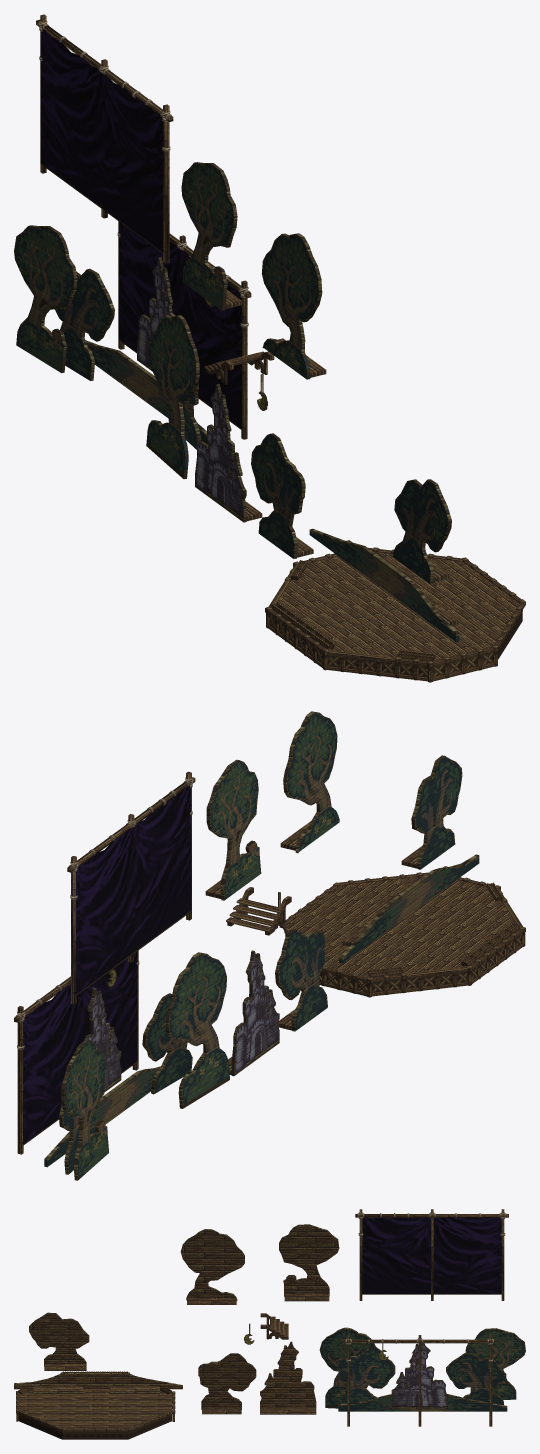
Rendered from EnvObjMD_Stage_A_StageSet.FBX.
The picture shows the model from 3 angles, top to bottom: view 1: azimuth 30°, elevation 25°; view 2: azimuth 150°, elevation 25°; view 3: azimuth 270°, elevation 25°; orthographic projection. The views are drawn at different scales.
Visible parts, largest first — view 1: EnvObjMD_Stage_A_StageSet, EnvObjMD_Stage_A_WoodenStage, EnvObjMD_Stage_A_StageSet_Screen, EnvObjMD_Stage_A_StageSet_Tree_D, EnvObjMD_Stage_A_StageSet_Tree_A, EnvObjMD_Stage_A_StageSet_Tree_C, EnvObjMD_Stage_A_StageSet_Tree_B, EnvObjMD_Stage_A_StageSet_Castle, EnvObjMD_Stage_A_StageSet_Hill, EnvObjMD_Stage_A_WoodenStairs; view 2: EnvObjMD_Stage_A_StageSet, EnvObjMD_Stage_A_WoodenStage, EnvObjMD_Stage_A_StageSet_Screen, EnvObjMD_Stage_A_StageSet_Tree_D, EnvObjMD_Stage_A_StageSet_Tree_A, EnvObjMD_Stage_A_StageSet_Tree_C, EnvObjMD_Stage_A_StageSet_Tree_B, EnvObjMD_Stage_A_StageSet_Castle, EnvObjMD_Stage_A_StageSet_Hill, EnvObjMD_Stage_A_WoodenStairs; view 3: EnvObjMD_Stage_A_StageSet, EnvObjMD_Stage_A_StageSet_Screen, EnvObjMD_Stage_A_WoodenStage, EnvObjMD_Stage_A_StageSet_Tree_A, EnvObjMD_Stage_A_StageSet_Tree_D, EnvObjMD_Stage_A_StageSet_Castle, EnvObjMD_Stage_A_StageSet_Hill, EnvObjMD_Stage_A_StageSet_Tree_C, EnvObjMD_Stage_A_StageSet_Tree_B, EnvObjMD_Stage_A_WoodenStairs.
Boxes of the visible parts, box(x1,y1,x2,y2) form: EnvObjMD_Stage_A_StageSet: box(14, 221, 251, 479); EnvObjMD_Stage_A_WoodenStage: box(265, 547, 525, 682); EnvObjMD_Stage_A_StageSet_Screen: box(36, 14, 173, 263); EnvObjMD_Stage_A_StageSet_Tree_D: box(261, 233, 326, 379); EnvObjMD_Stage_A_StageSet_Tree_A: box(181, 162, 241, 310); EnvObjMD_Stage_A_StageSet_Tree_C: box(251, 433, 313, 558); EnvObjMD_Stage_A_StageSet_Tree_B: box(393, 479, 451, 583); EnvObjMD_Stage_A_StageSet_Castle: box(195, 384, 262, 522); EnvObjMD_Stage_A_StageSet_Hill: box(309, 528, 459, 641); EnvObjMD_Stage_A_WoodenStairs: box(204, 351, 274, 384); EnvObjMD_Stage_A_StageSet: box(14, 950, 229, 1180); EnvObjMD_Stage_A_WoodenStage: box(279, 872, 525, 997); EnvObjMD_Stage_A_StageSet_Screen: box(67, 771, 195, 1004); EnvObjMD_Stage_A_StageSet_Tree_D: box(280, 711, 339, 853); EnvObjMD_Stage_A_StageSet_Tree_A: box(205, 759, 261, 900); EnvObjMD_Stage_A_StageSet_Tree_C: box(275, 929, 327, 1031); EnvObjMD_Stage_A_StageSet_Tree_B: box(401, 755, 462, 869); EnvObjMD_Stage_A_StageSet_Castle: box(228, 950, 279, 1076); EnvObjMD_Stage_A_StageSet_Hill: box(339, 854, 479, 963); EnvObjMD_Stage_A_WoodenStairs: box(226, 887, 291, 935); EnvObjMD_Stage_A_StageSet: box(319, 1327, 525, 1426); EnvObjMD_Stage_A_StageSet_Screen: box(355, 1209, 508, 1300); EnvObjMD_Stage_A_WoodenStage: box(16, 1371, 175, 1439); EnvObjMD_Stage_A_StageSet_Tree_A: box(279, 1224, 339, 1301); EnvObjMD_Stage_A_StageSet_Tree_D: box(180, 1229, 244, 1304); EnvObjMD_Stage_A_StageSet_Castle: box(260, 1341, 316, 1414); EnvObjMD_Stage_A_StageSet_Hill: box(14, 1373, 182, 1393); EnvObjMD_Stage_A_StageSet_Tree_C: box(198, 1353, 256, 1414); EnvObjMD_Stage_A_StageSet_Tree_B: box(29, 1312, 89, 1370); EnvObjMD_Stage_A_WoodenStairs: box(260, 1313, 288, 1339).
Bounding box in the file's own units: 1232 × 2037 × 4666.
